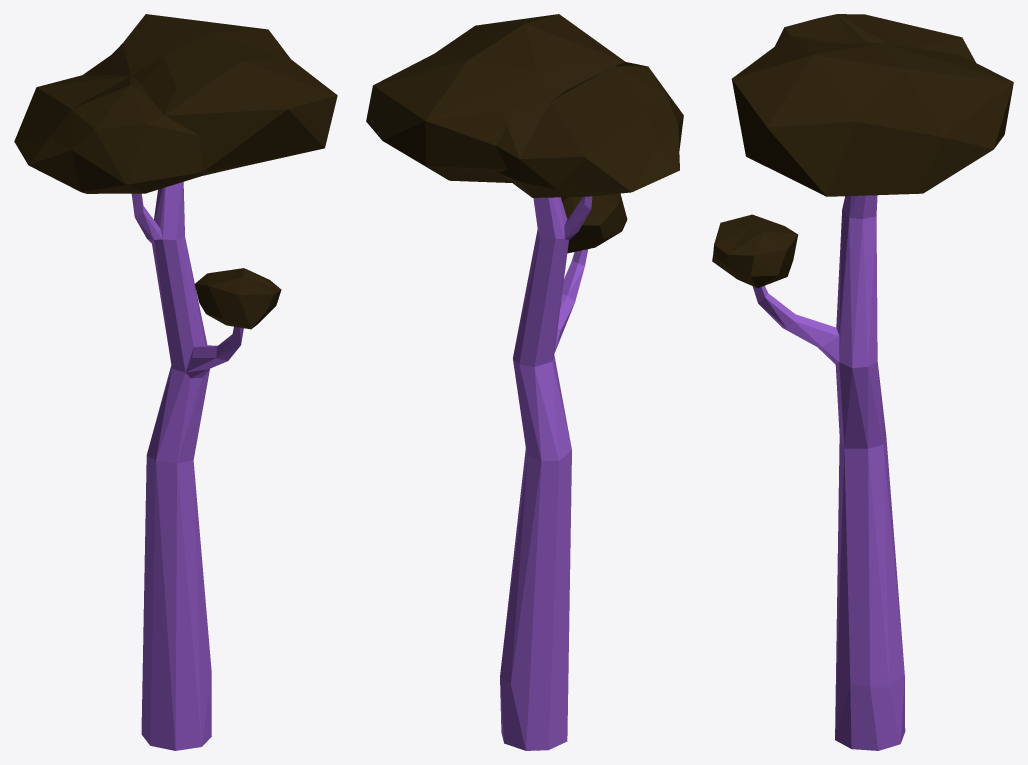
The model's file is tree02.fbx.
The picture shows the model from 3 angles, left to right: view 1: azimuth 30°, elevation 25°; view 2: azimuth 150°, elevation 25°; view 3: azimuth 270°, elevation 25°; orthographic projection. The views are drawn at different scales.
Visible parts, largest first — view 1: Cylinder; view 2: Cylinder; view 3: Cylinder.
Boxes of the visible parts, <box> form: Cylinder: <box>14,14,337,750</box>; Cylinder: <box>366,14,683,750</box>; Cylinder: <box>712,14,1013,750</box>.
Size of the model in its own units: 1.34 by 3.02 by 1.18.
